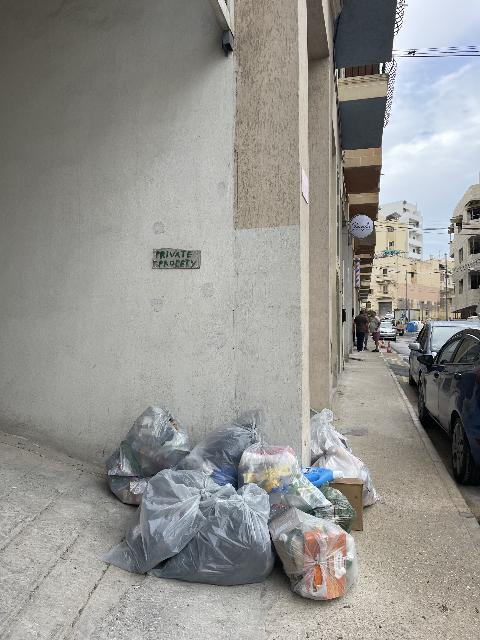Organic -White-: (311, 482, 356, 533)
Other: (330, 478, 364, 531), (301, 467, 334, 488)
Recyclable -Grey-: (101, 469, 236, 574), (148, 483, 274, 586), (106, 406, 191, 505), (269, 510, 356, 600), (173, 409, 266, 487), (238, 442, 331, 520), (311, 408, 380, 505), (210, 462, 213, 465)
